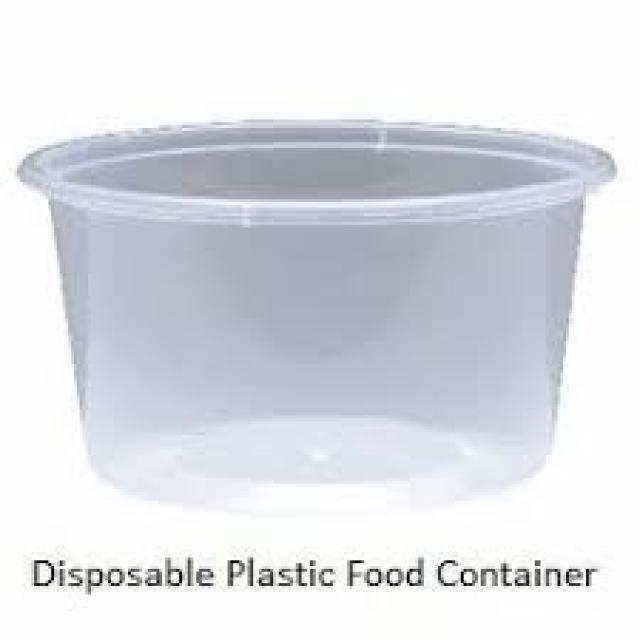disposable: (14, 98, 634, 537)
